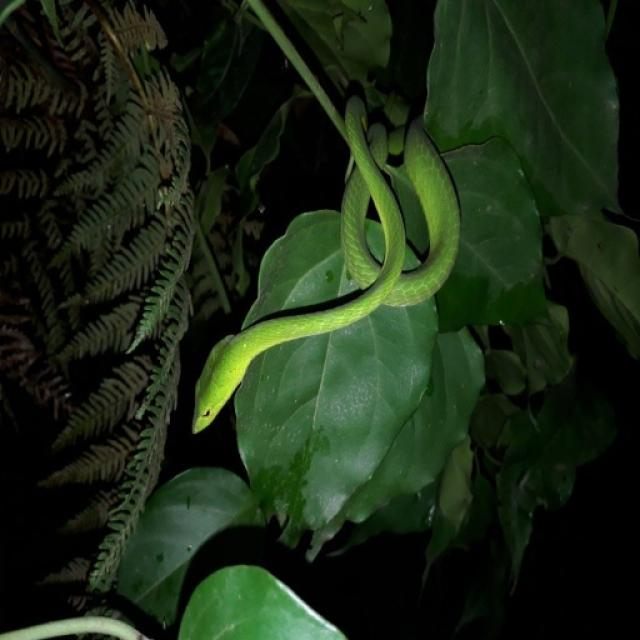snake: (179, 0, 484, 454)
